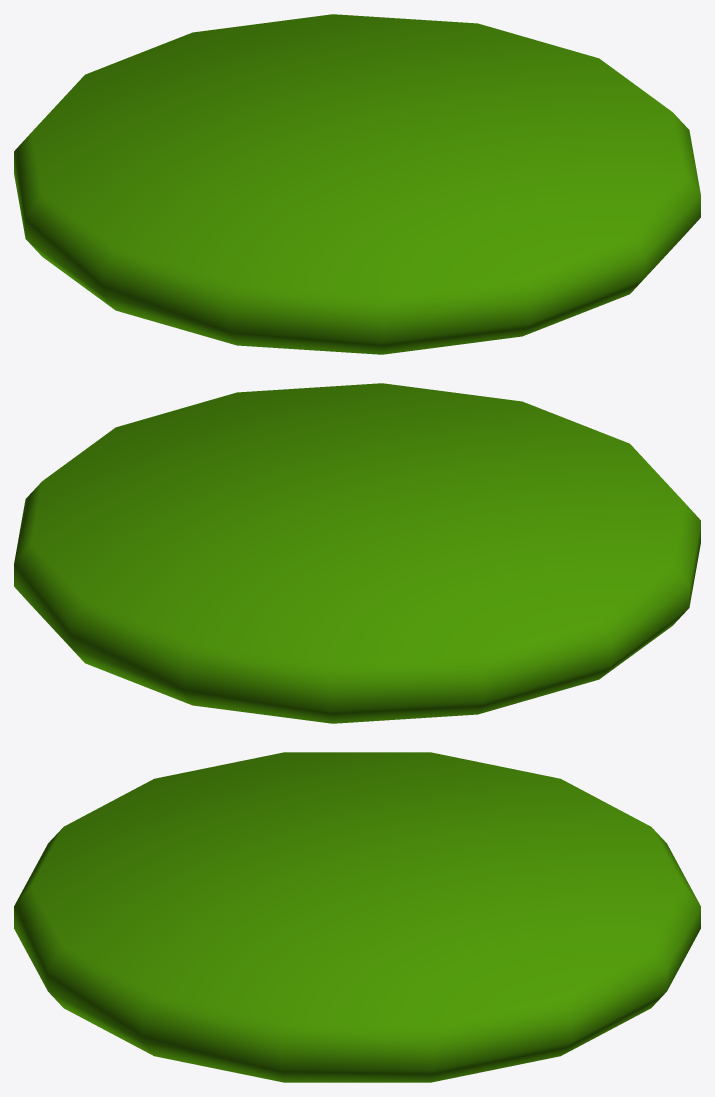
File: Lettuce.fbx
The picture shows the model from 3 angles, top to bottom: view 1: azimuth 30°, elevation 25°; view 2: azimuth 150°, elevation 25°; view 3: azimuth 270°, elevation 25°; orthographic projection.
Parts seen in each view (by area): view 1: Patty; view 2: Patty; view 3: Patty.
Part boxes in pixels (bbox=[...]): Patty: bbox=[14, 14, 700, 354]; Patty: bbox=[14, 383, 700, 723]; Patty: bbox=[14, 752, 700, 1082].
Size of the model in its own units: 49.66 by 5.07 by 50.94.
